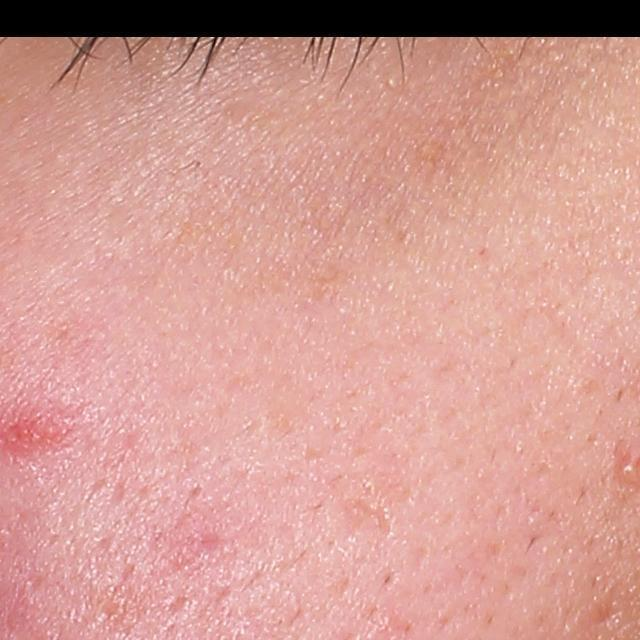atrophic_scar: (339, 495, 398, 544)
